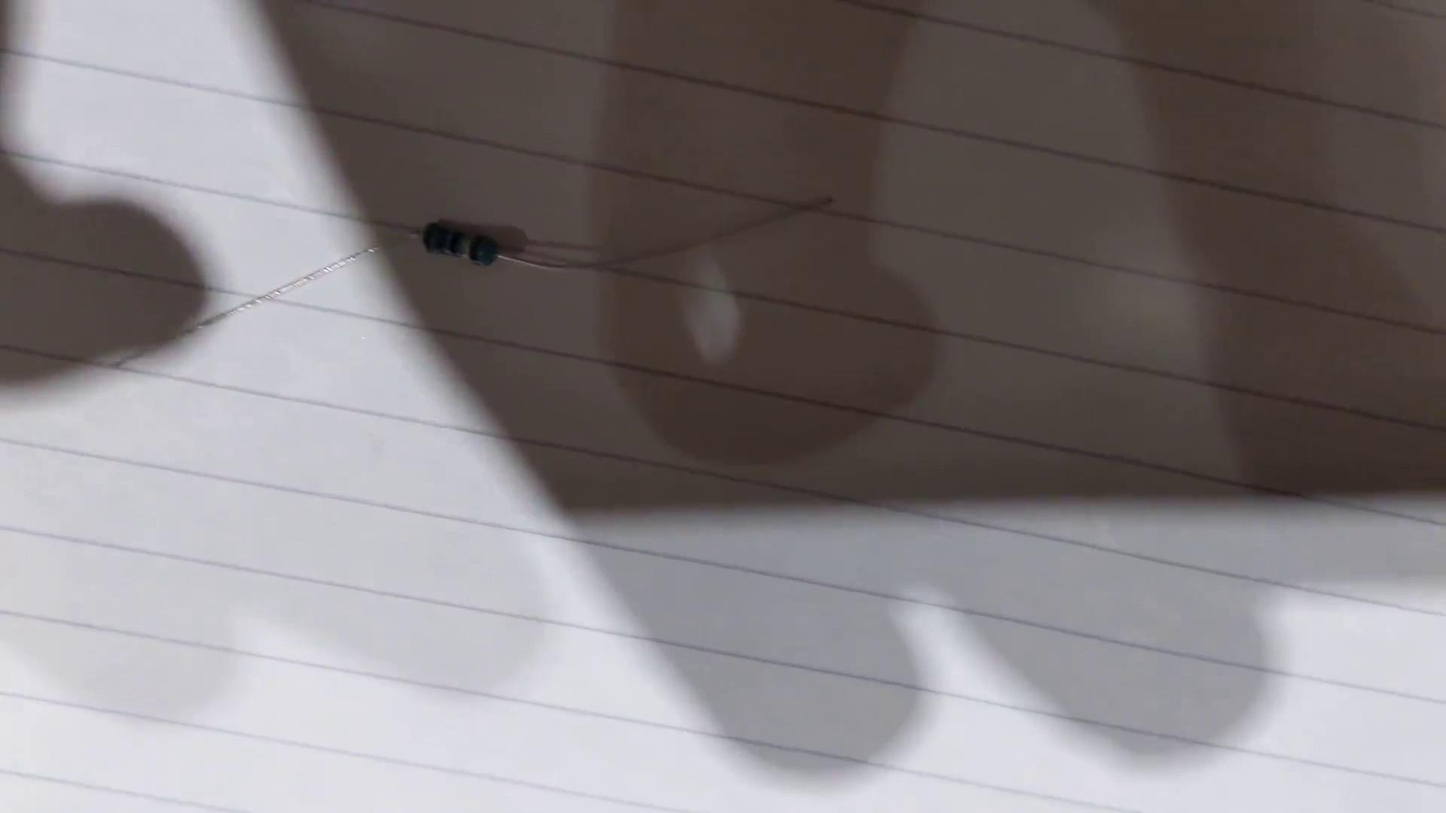resistor: (418, 219, 498, 270)
